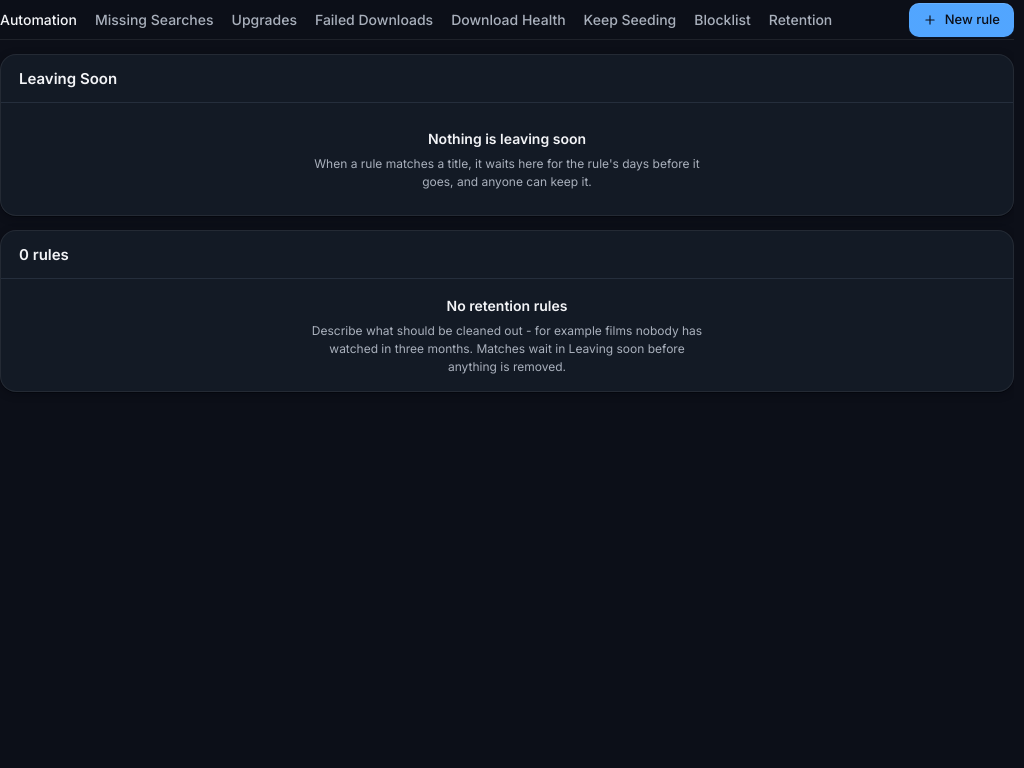
Test: the rule drawer › says a single undecided title in the singular, and what the matches will do on their day
The image size is (1024, 768).
Click the button "New rule": (961,20) [909,2,1014,36]
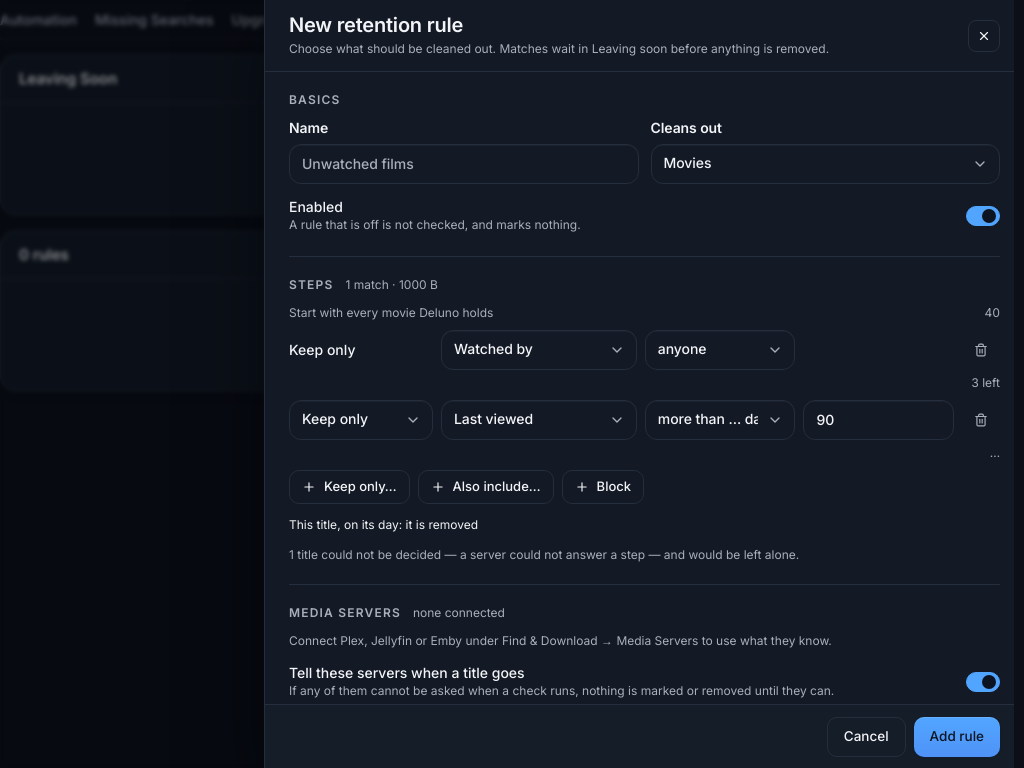
Expected: the text "1 title could not be decided — a server could not answer a step — and would be left alone." is shown, [289,547,799,562]
Expected: the text "This title, on its day: it is removed" is shown, [289,517,478,532]
